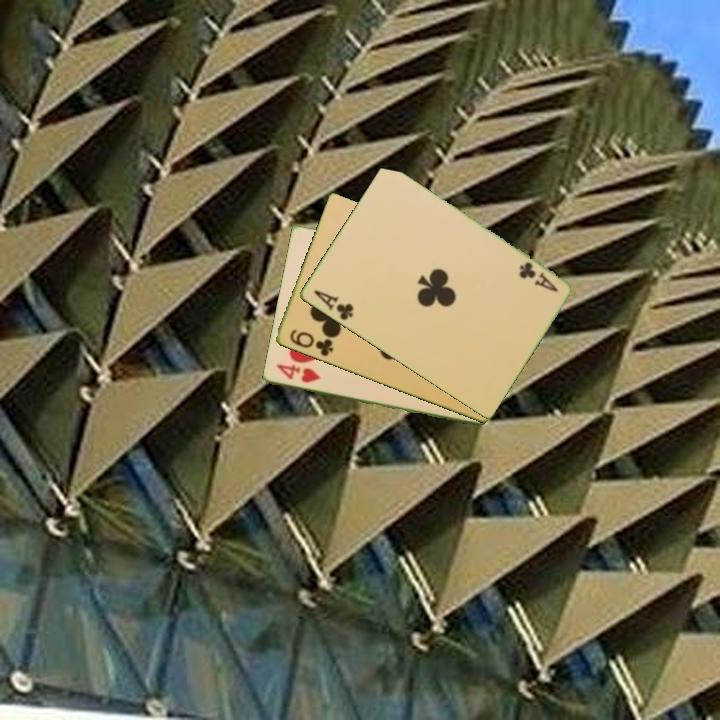4h: (273, 361, 323, 386)
6c: (286, 326, 336, 359)
Ac: (310, 286, 356, 323), (515, 258, 560, 295)
